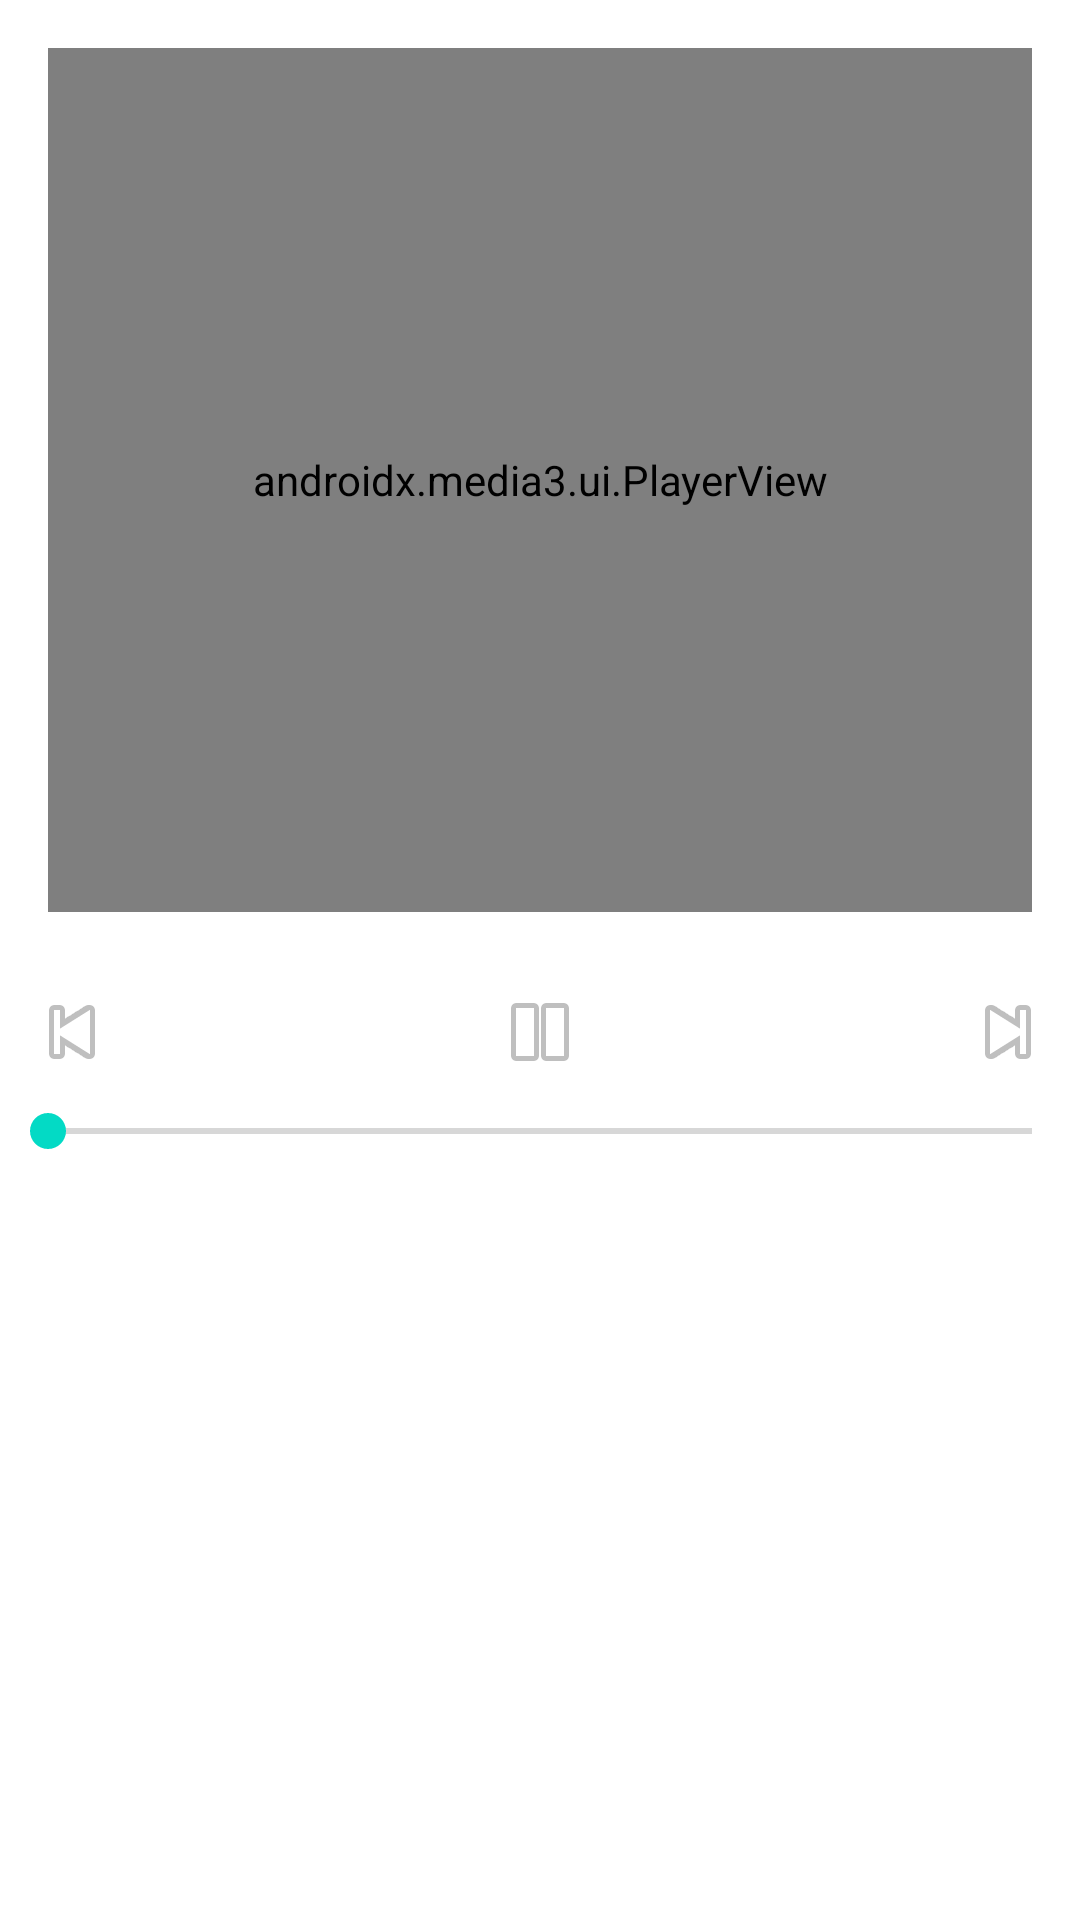

Named icons in this screenshot (1080x1920) and their centers, point (x, y):
Next Frame: point (1008, 1032)
Play/Pause: point (540, 1032)
Previous Frame: point (72, 1032)
